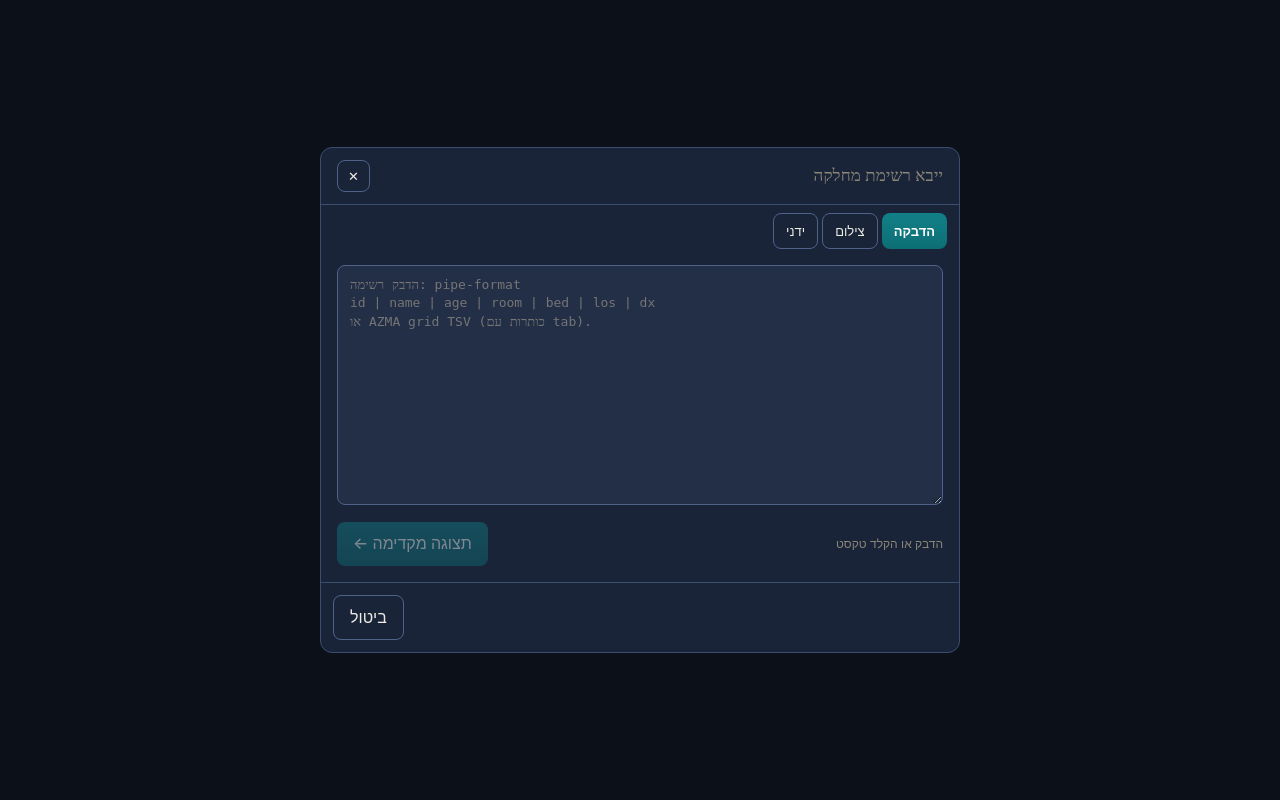
Scenario: RosterImportModal — smoke › back button on preview returns to input phase
The width and height of the screenshot is (1280, 800).
Replace the text in the text box named "טקסט להדבקה" with "123456782 | רוזנברג מרים | 87 | 12 | A | 5 | Hip" at (640,385), box [337, 265, 943, 506]
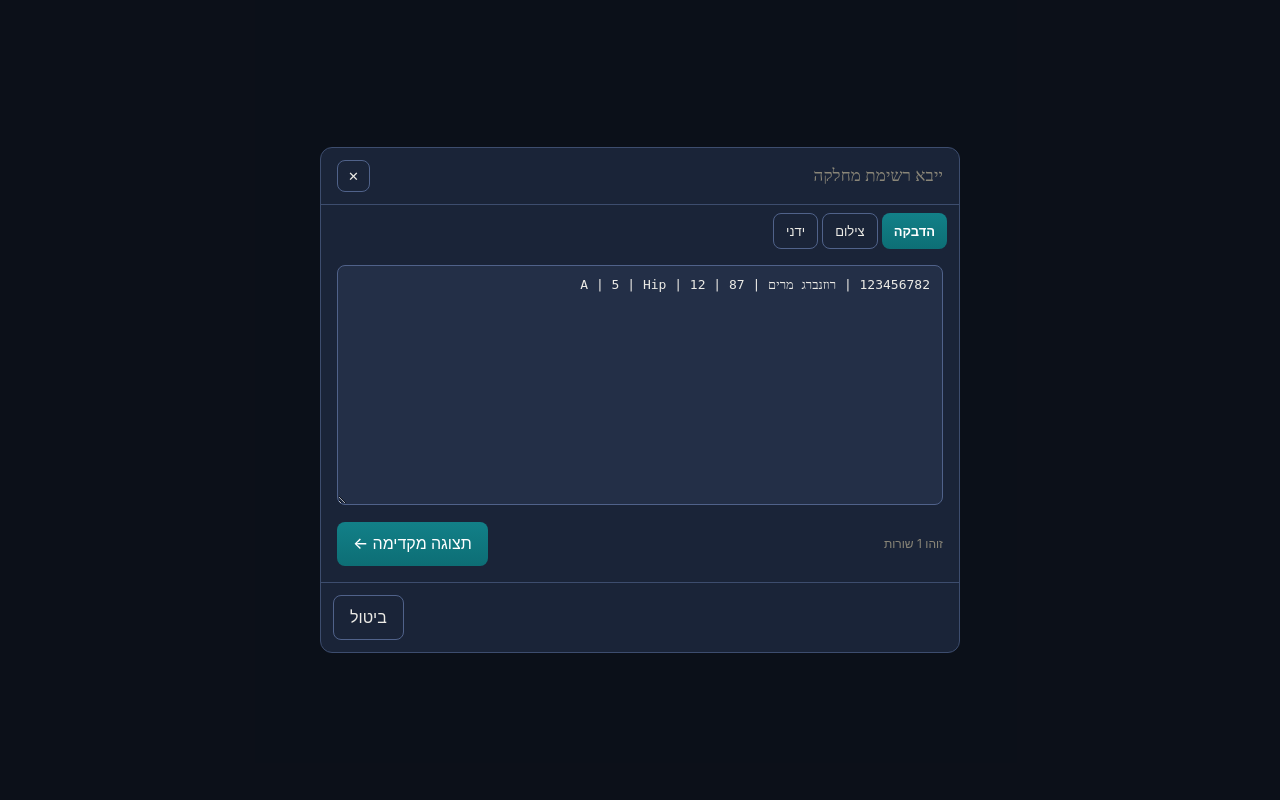
Click the button "תצוגה מקדימה ←" at (412,544), box [337, 522, 488, 566]
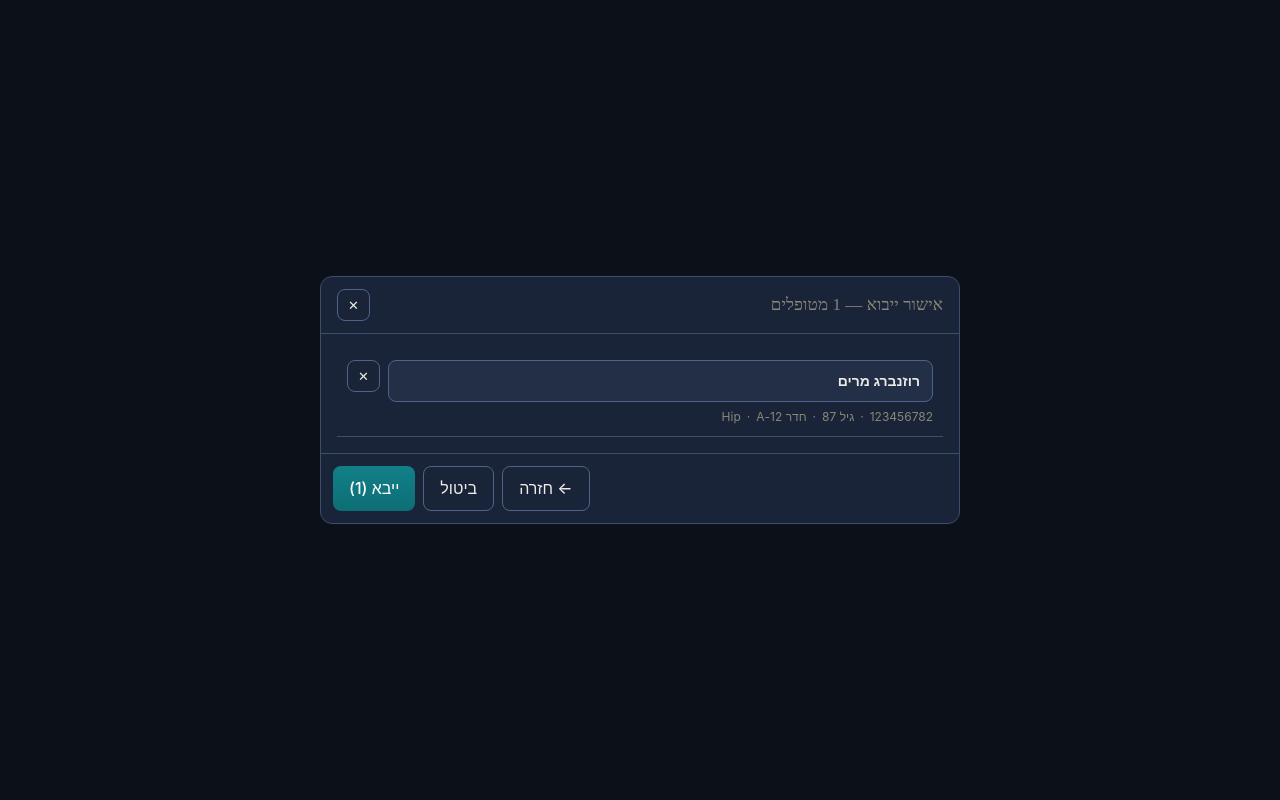
expect the heading "אישור ייבוא — 1 מטופלים" is shown: met, box [771, 293, 943, 317]
Click the button "← חזרה" at (546,488), box [502, 466, 590, 511]
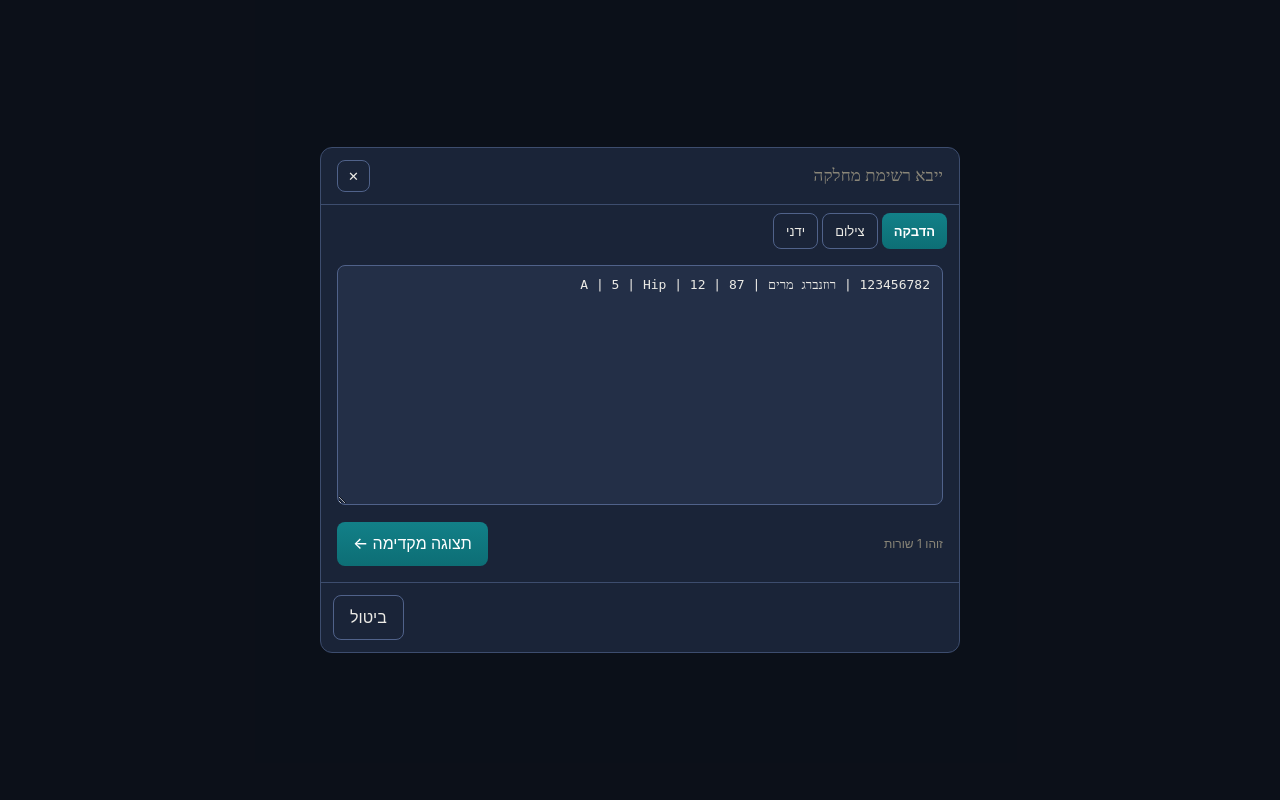
expect the text box named "טקסט להדבקה" is shown: met, box [337, 265, 943, 506]
